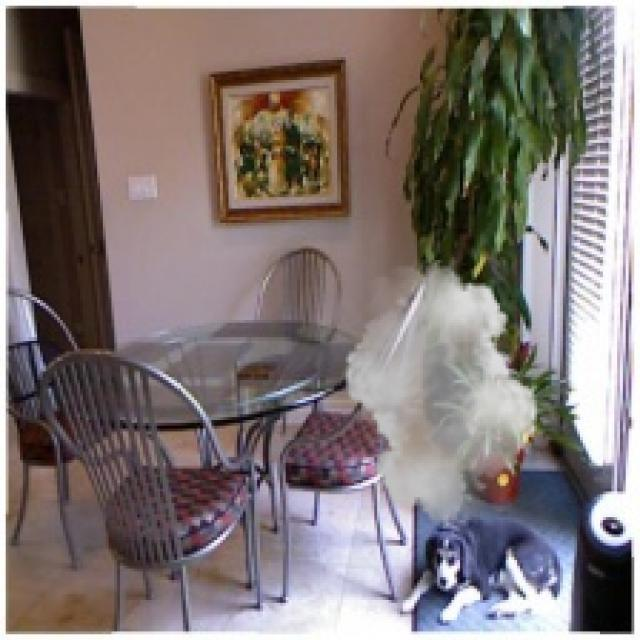Smoke: (337, 260, 546, 529)
